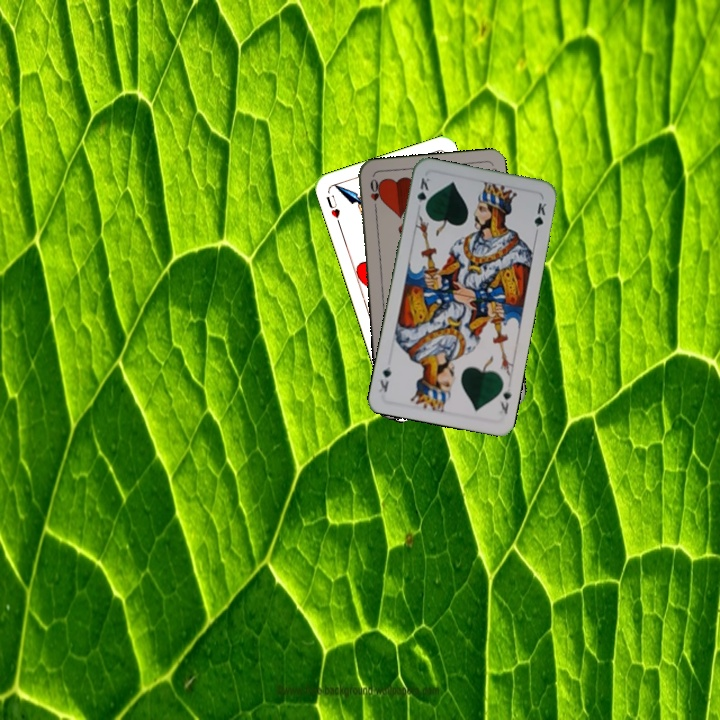GK: (413, 174, 434, 213), (496, 384, 514, 416)
HO: (366, 175, 382, 215)
HU: (322, 191, 343, 227)
